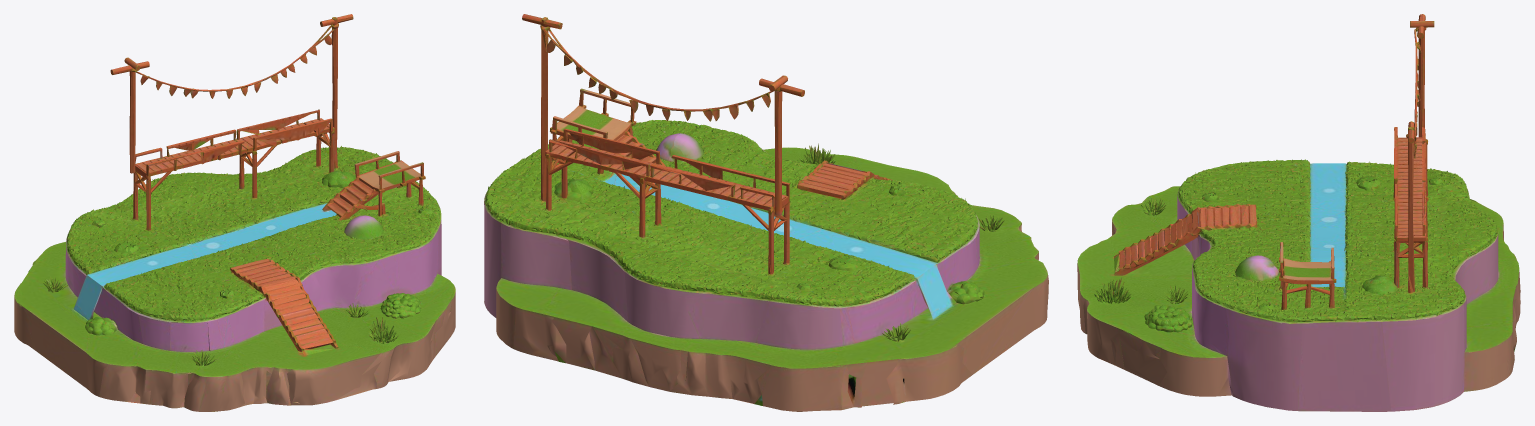
Rendered from obstacleCourse.b5892753.glb.
3 renders of one model, left to right at view 1: azimuth 30°, elevation 25°; view 2: azimuth 150°, elevation 25°; view 3: azimuth 270°, elevation 25°, orthographic. The views are drawn at different scales.
Parts seen in each view (by area): view 1: output_unwrapped; view 2: output_unwrapped; view 3: output_unwrapped.
Part boxes in pixels (x1=…): output_unwrapped: x1=14, y1=14, x2=455, y2=411; output_unwrapped: x1=484, y1=14, x2=1048, y2=411; output_unwrapped: x1=1077, y1=14, x2=1520, y2=411.
Bounding box in the file's own units: 1.9 × 1.14 × 1.76.
1 material, 1 textured.
